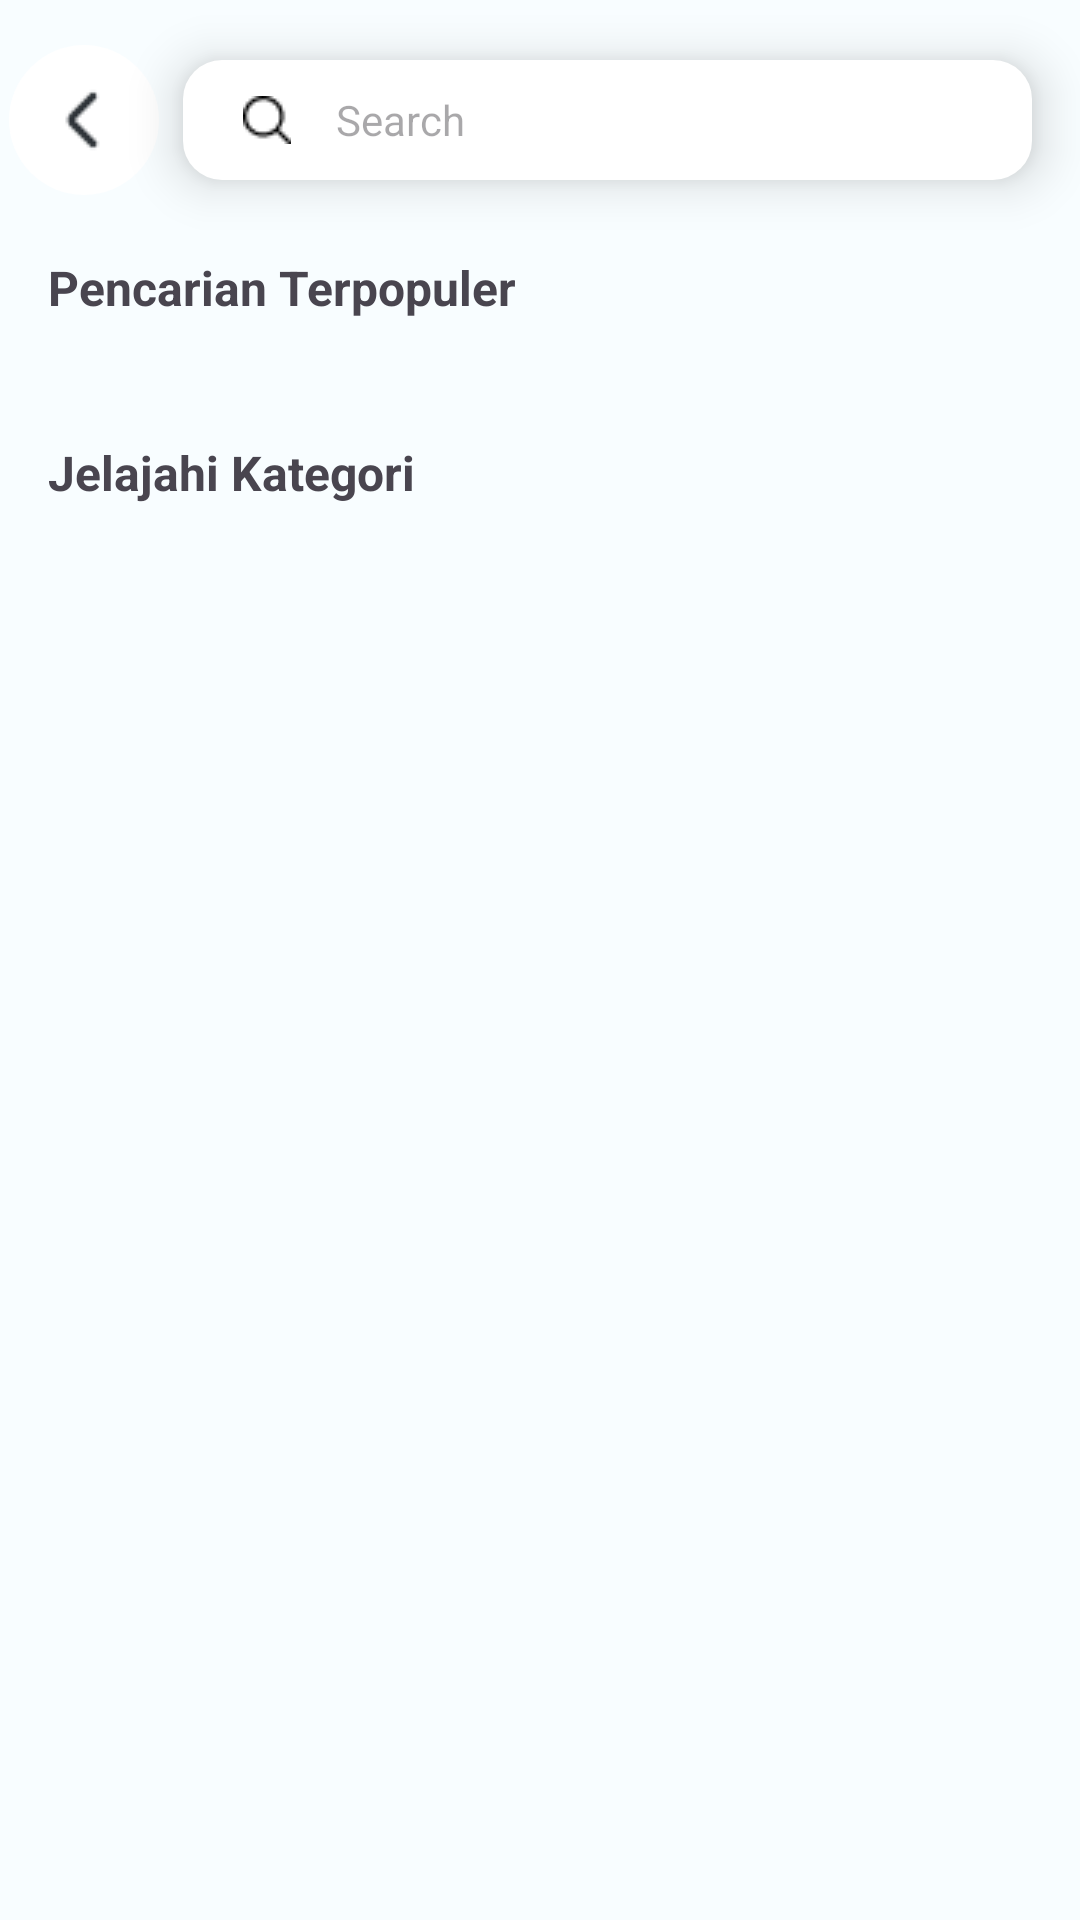

Icons on this 1080px×1920px Android screen, each with the point to tap as (x=x, y=y):
left arrow: (x=82, y=120)
